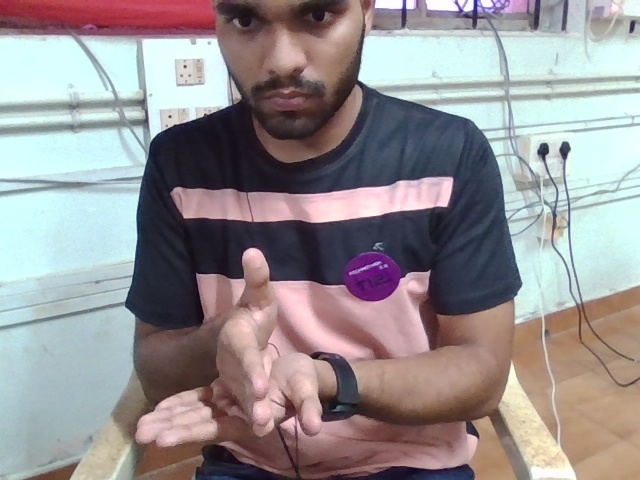stop: (110, 227, 347, 460)
